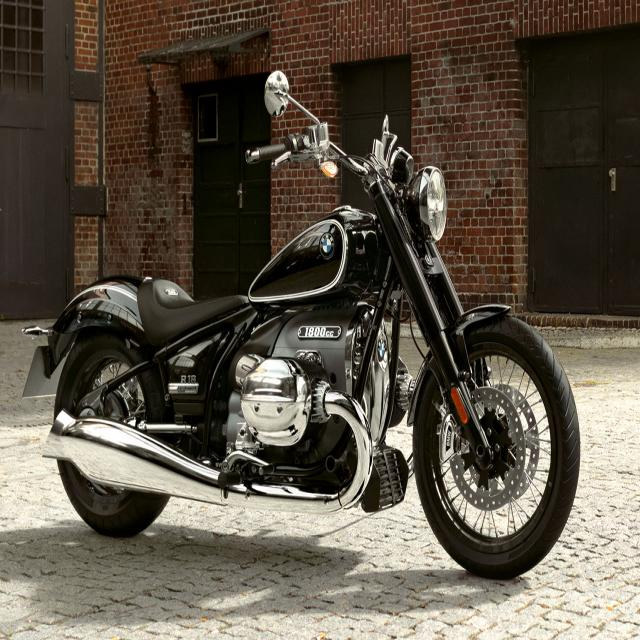Motorcycle: (25, 71, 581, 578)
